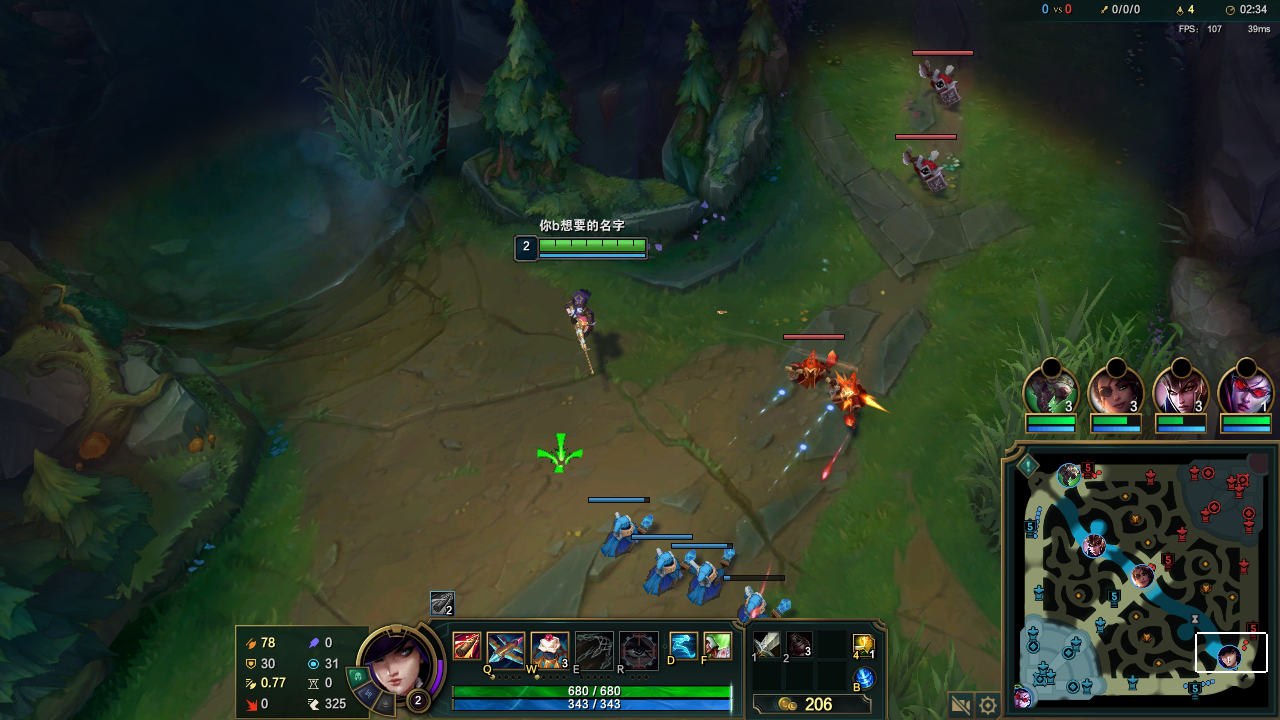DFXB: (830, 372, 880, 422), (916, 60, 965, 107), (901, 146, 949, 192), (785, 349, 837, 388)
WFXB: (687, 549, 731, 604), (600, 512, 651, 556), (642, 550, 694, 593), (740, 585, 791, 618)
Yita: (1186, 679, 1203, 699)
